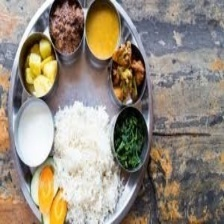rice: (52, 98, 125, 224)
